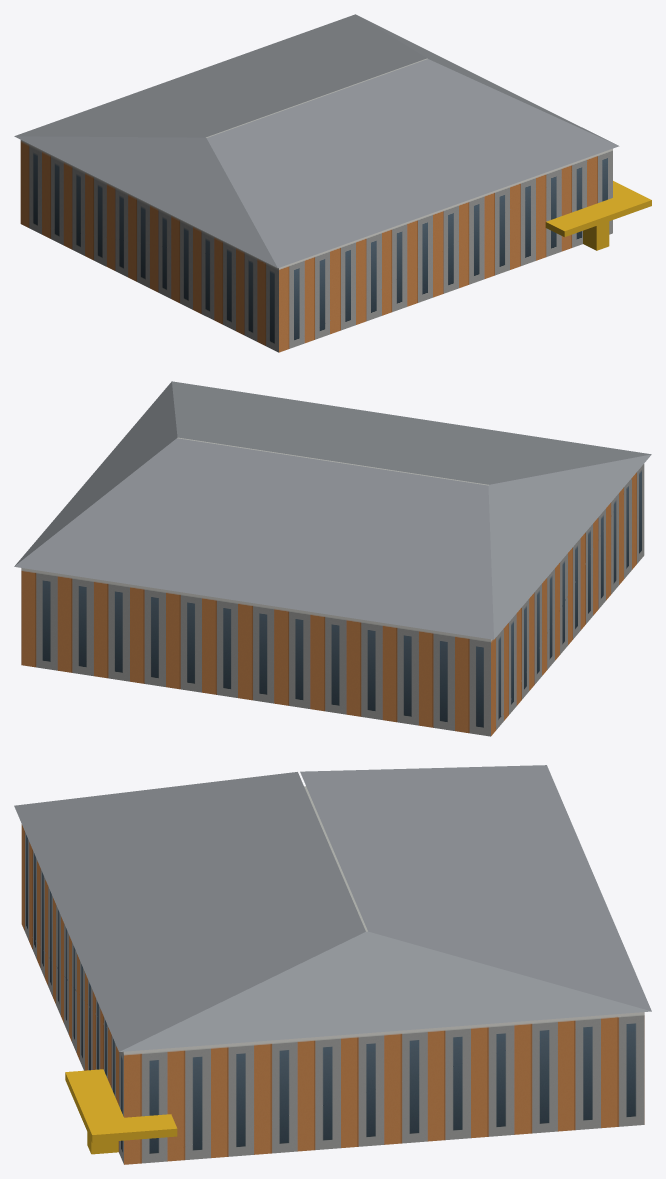
The model's file is fengyun_juchang.glb.
The picture shows the model from 3 angles, top to bottom: view 1: azimuth 30°, elevation 25°; view 2: azimuth 150°, elevation 25°; view 3: azimuth 270°, elevation 25°; orthographic projection. The views are drawn at different scales.
Parts seen in each view (by area): view 1: 风云剧场; view 2: 风云剧场; view 3: 风云剧场.
Part boxes in pixels (x1,y1,x2,y2): 风云剧场: [14, 14, 651, 352]; 风云剧场: [14, 381, 651, 736]; 风云剧场: [14, 765, 651, 1164].
Size of the model in its own units: 65.84 by 17.6 by 58.91.
4 materials, 1 textured.
